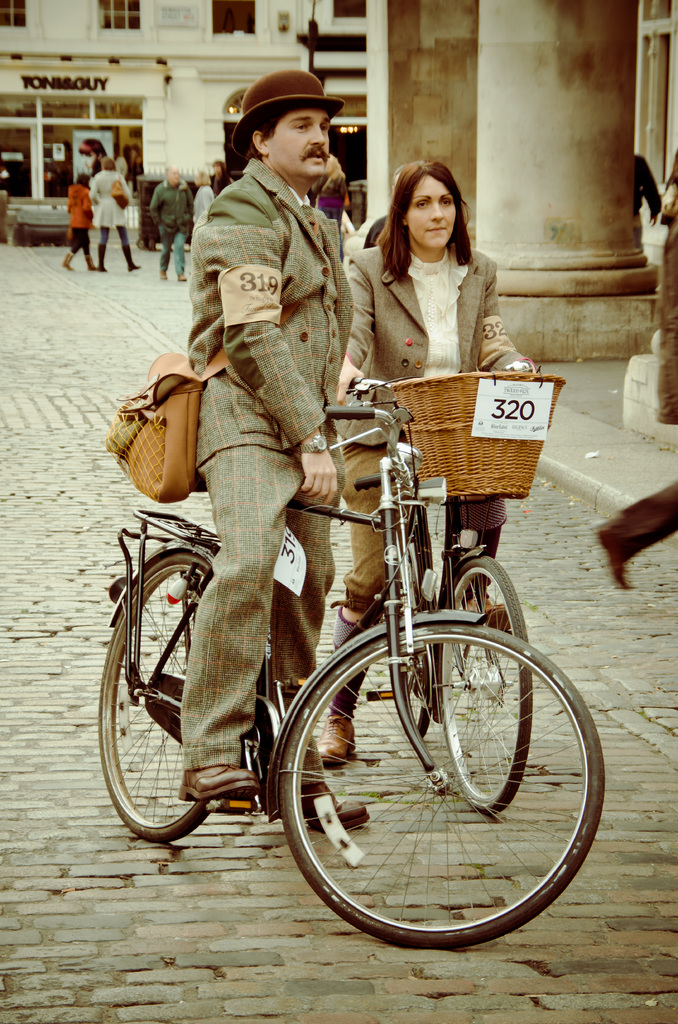Bike: (120, 429, 538, 962)
